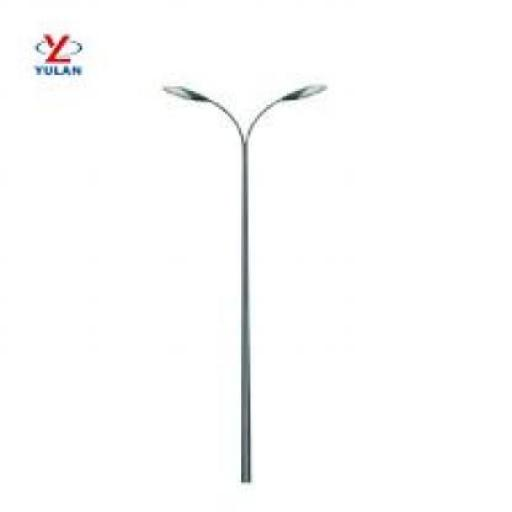street light: (163, 82, 326, 484)
